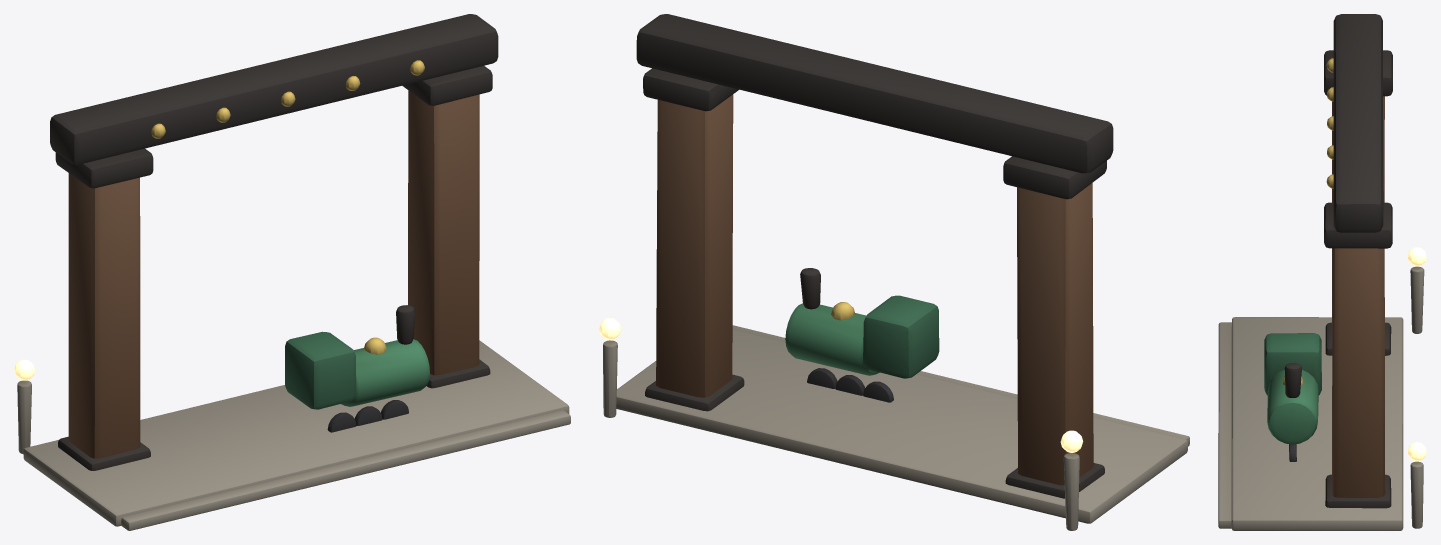
The picture shows the model from 3 angles, left to right: view 1: azimuth 30°, elevation 25°; view 2: azimuth 150°, elevation 25°; view 3: azimuth 270°, elevation 25°; orthographic projection. The views are drawn at different scales.
Parts seen in each view (by area): view 1: gate_c62d3255; view 2: gate_c62d3255; view 3: gate_c62d3255.
Boxes of the visible parts, box(x1,y1,x2,y2) form: gate_c62d3255: box(14, 14, 570, 530); gate_c62d3255: box(599, 14, 1189, 530); gate_c62d3255: box(1218, 14, 1426, 530).
Bounding box in the file's own units: 5.9 × 4.37 × 2.55.
